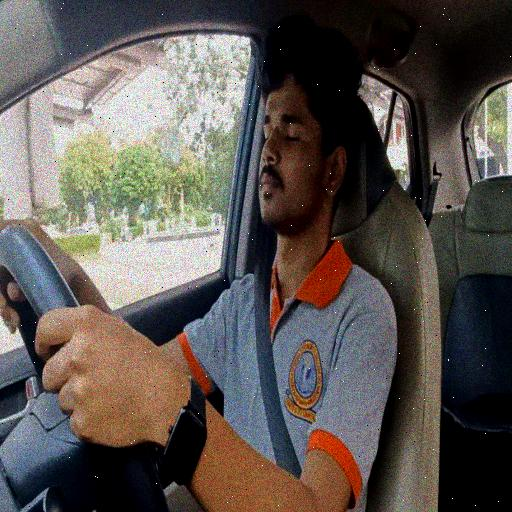Closed Eye: (0, 11, 397, 512)
